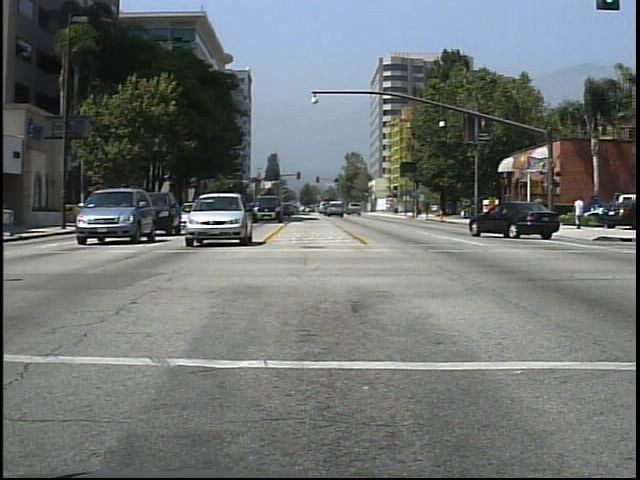person: (531, 192, 549, 232), (573, 193, 587, 233)
